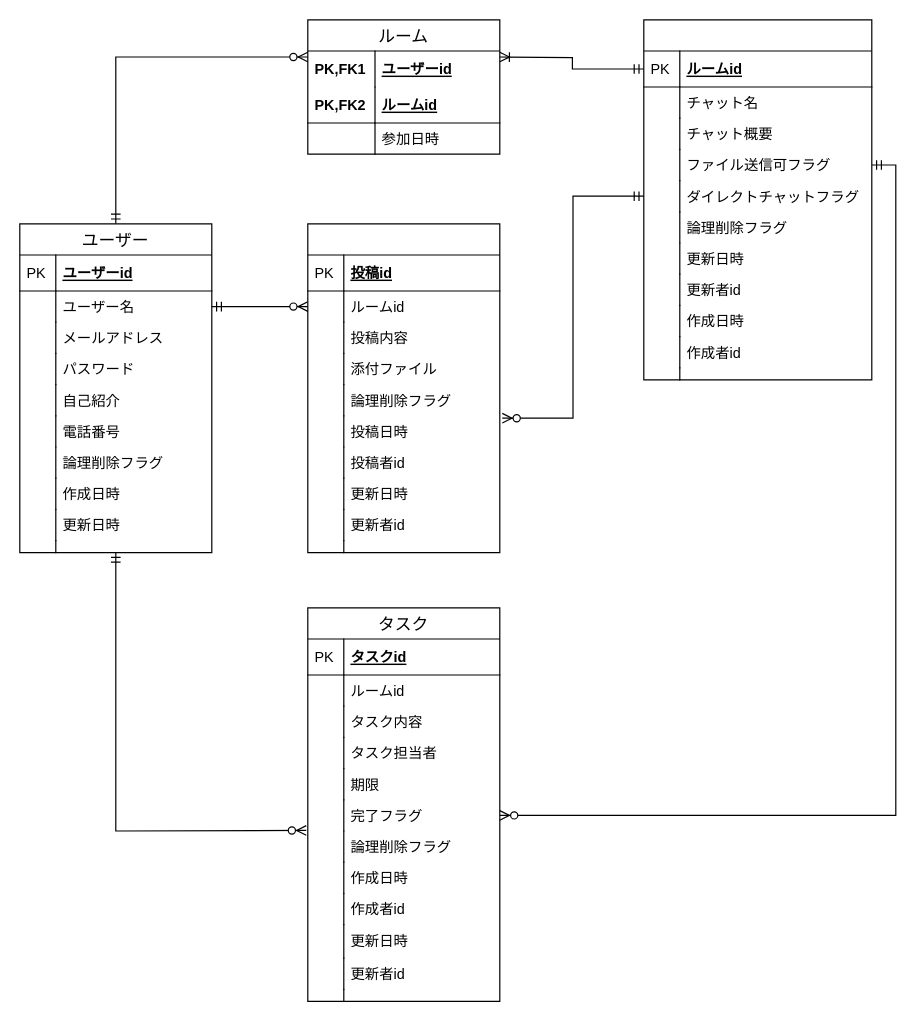
This 916x1021 diagram has some shape labels left out. Each missing label, with the box of its shape:
チャットルーム: (643, 19, 872, 380)
投稿: (307, 223, 500, 553)
